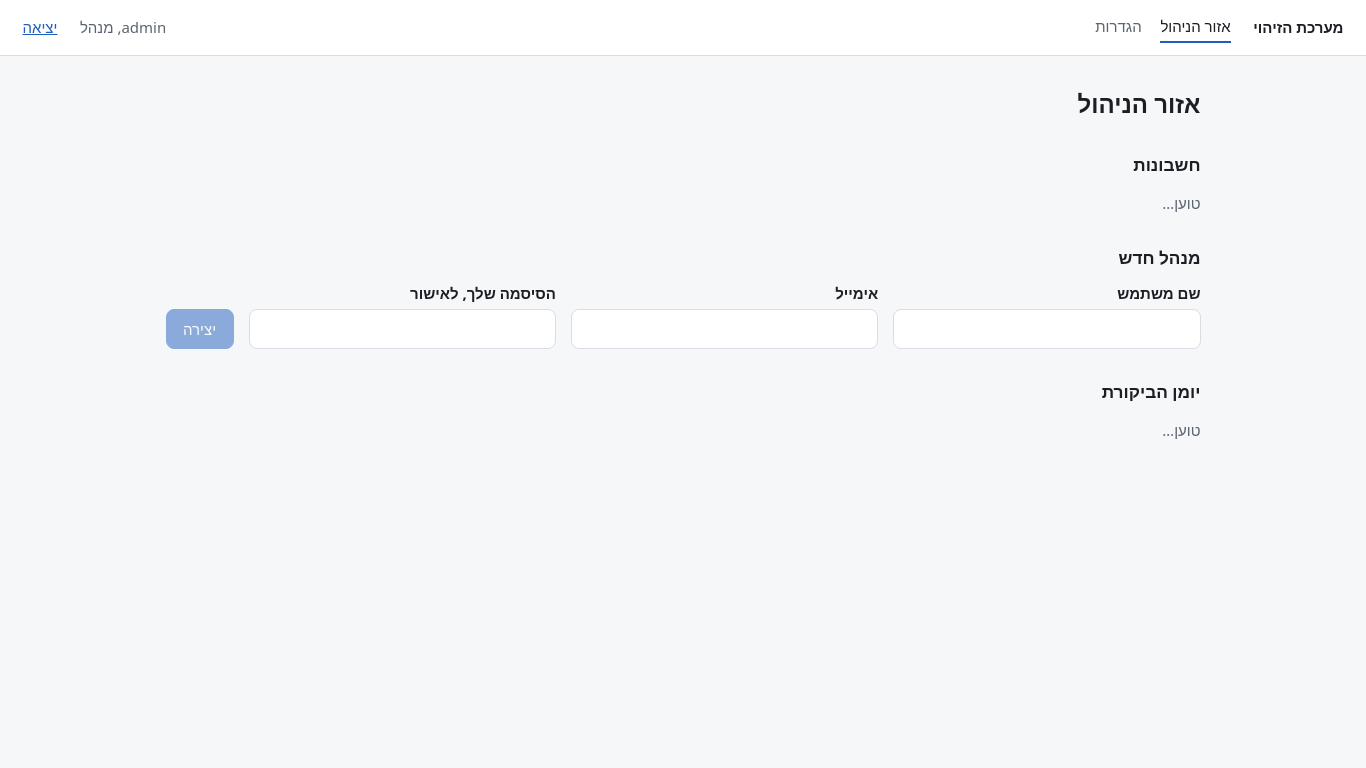
Test: the administration area › shows a new administrator's one-time password once
Type "rotem" into the field labelled "שם משתמש" at (1047, 329), box [893,309,1200,348]
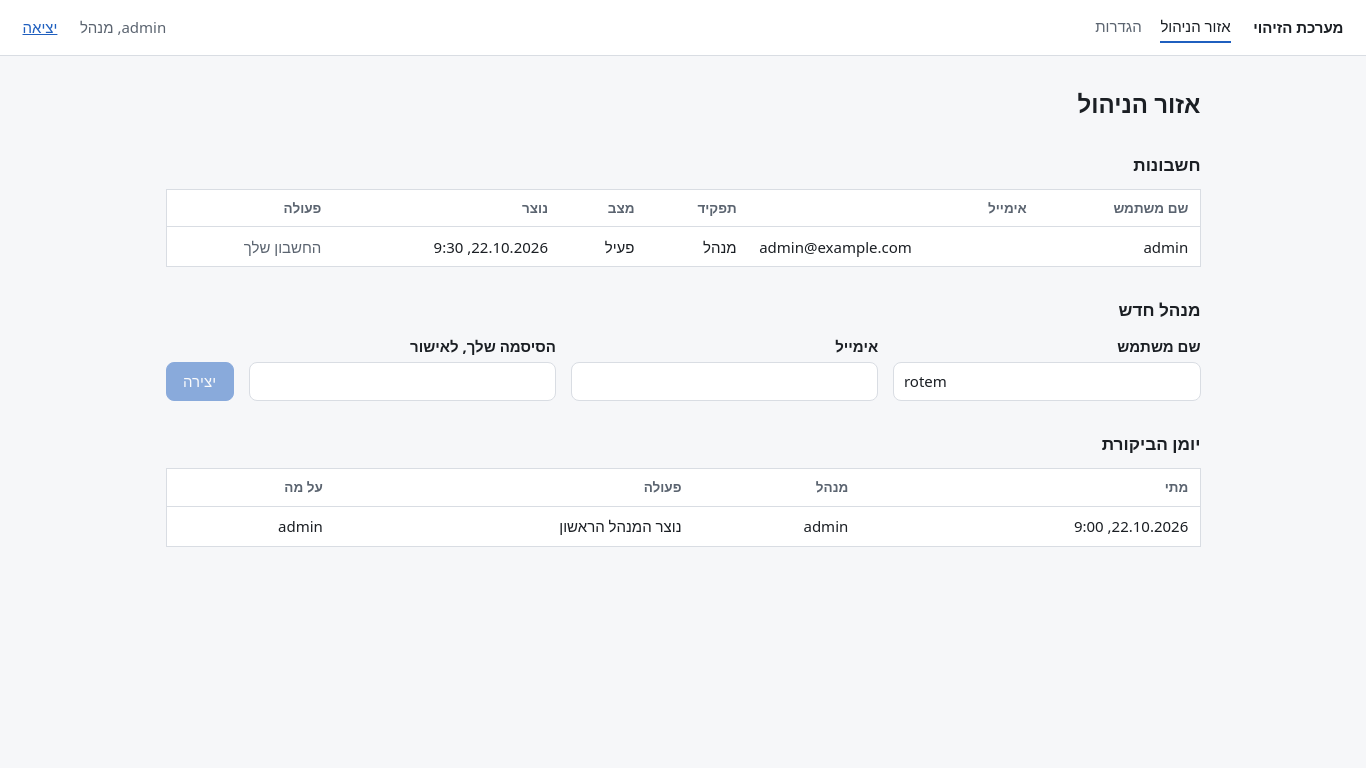
Type "rotem@example.com" into the field labelled "אימייל" at (725, 381), box [571,362,878,401]
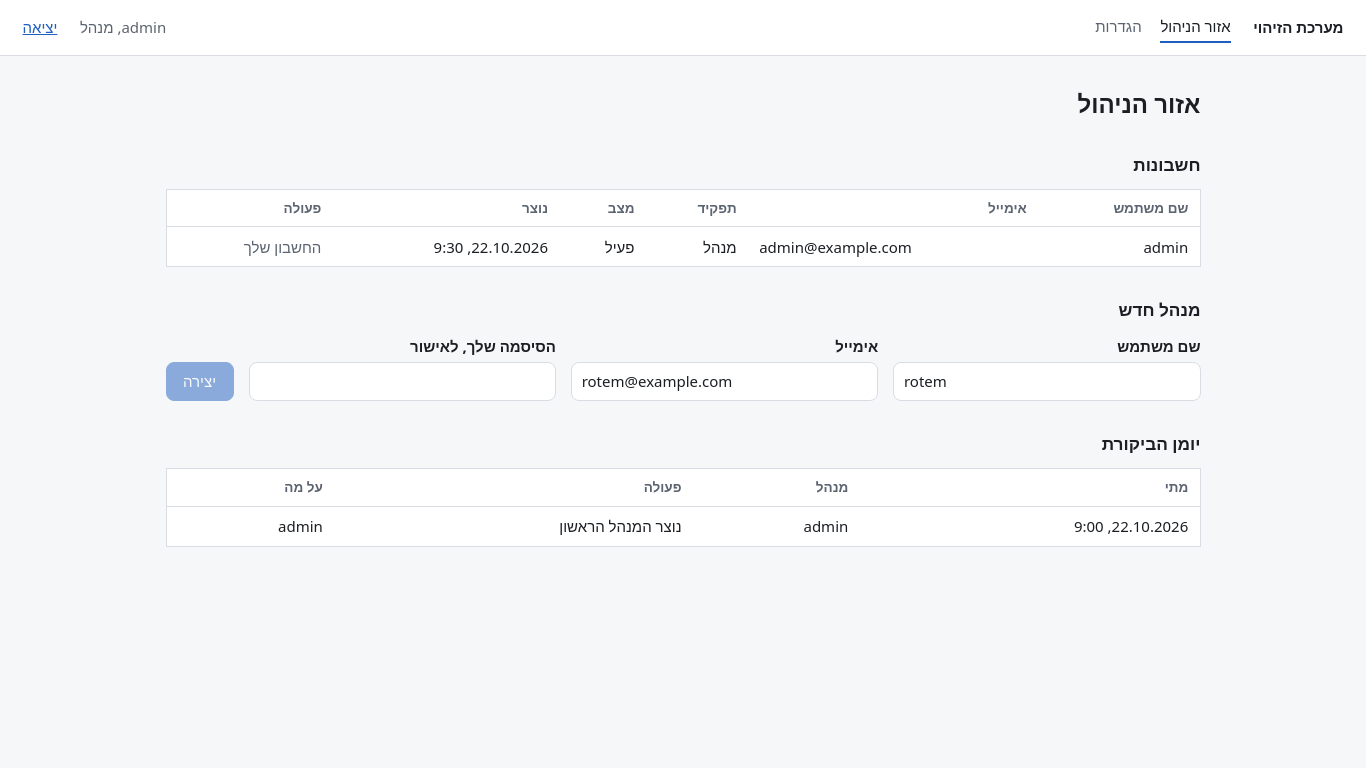
Type "admin password 1" into the password field labelled "הסיסמה שלך, לאישור" at (402, 381), box [249,362,556,401]
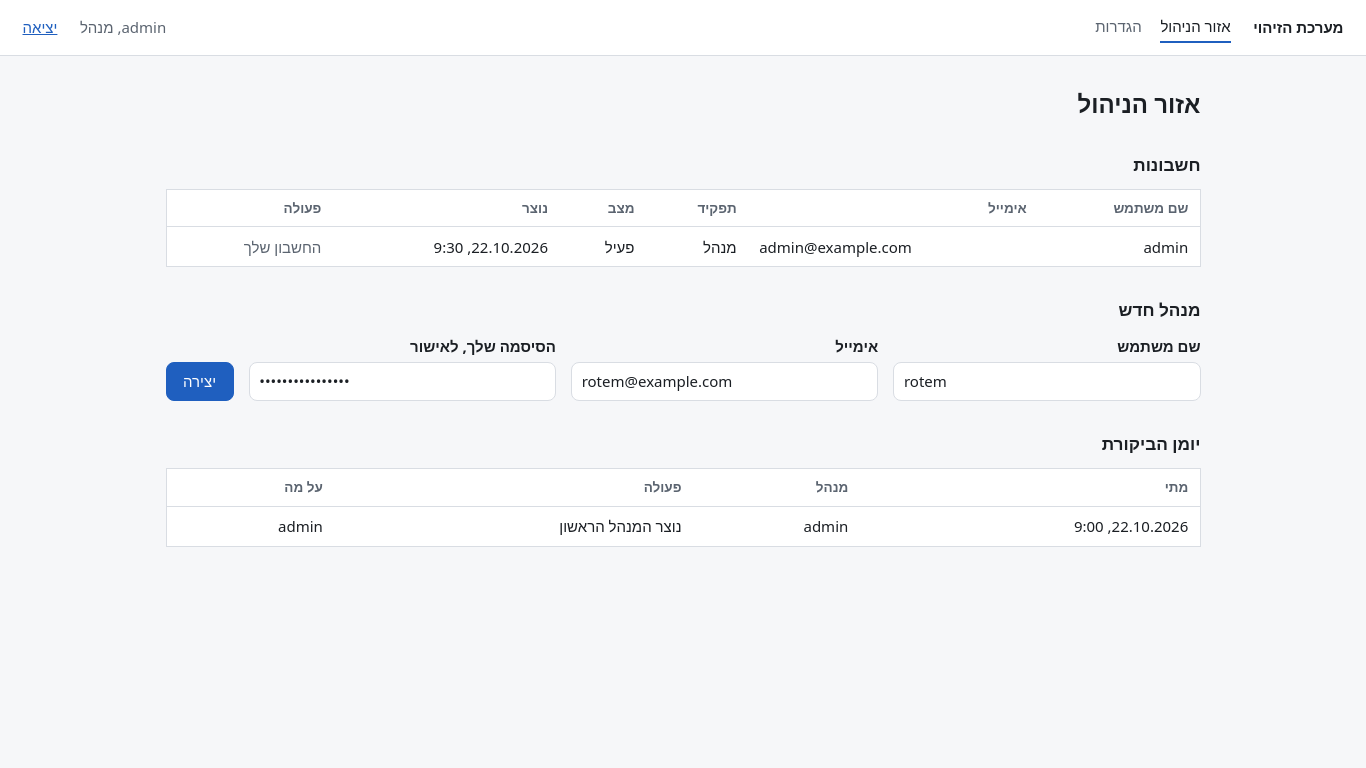
Click the button "יצירה" at (200, 381), box [166,362,234,401]
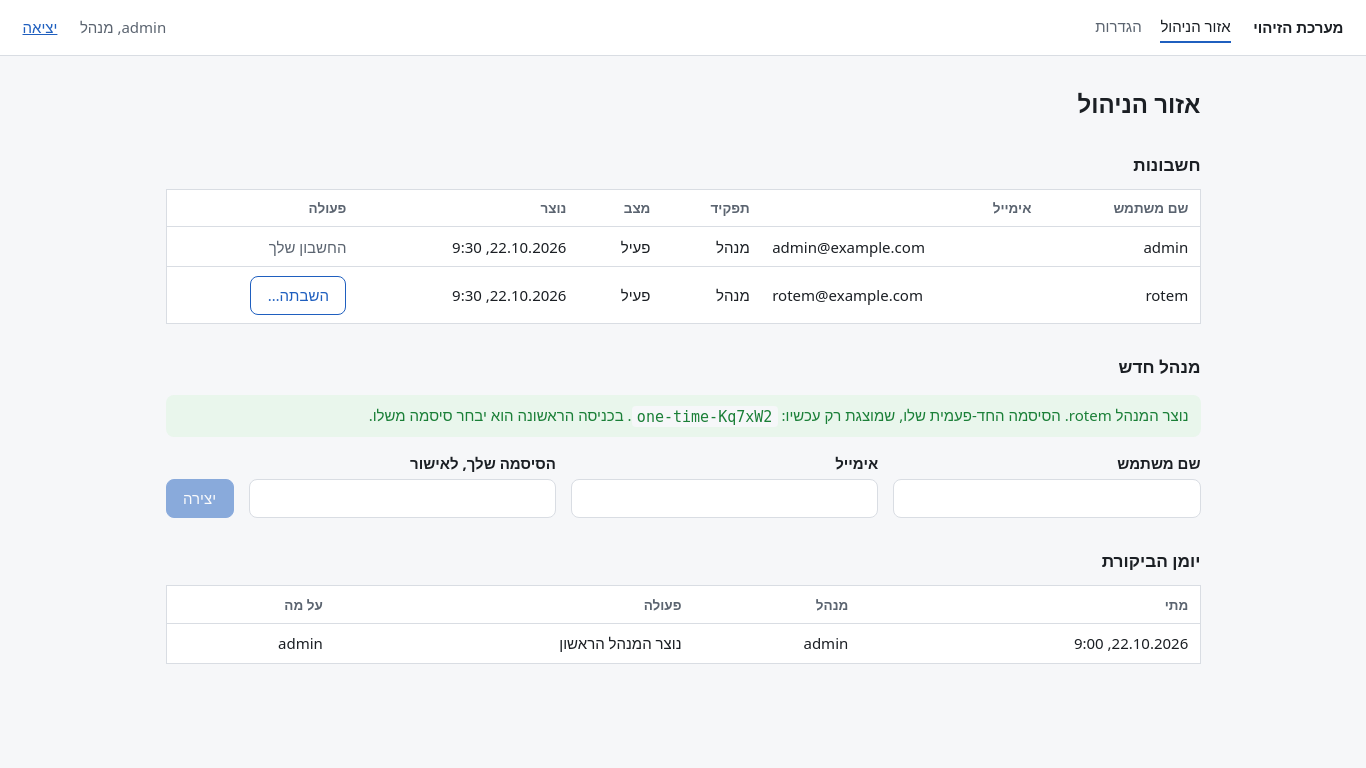
Expected: the message shows "one-time-Kq7xW2", [637,407,772,425]
Expected: the row "rotem rotem@example.com מנהל פעיל 22.10.2026, 9:30 השבתה…" is shown, [166,267,1200,324]
